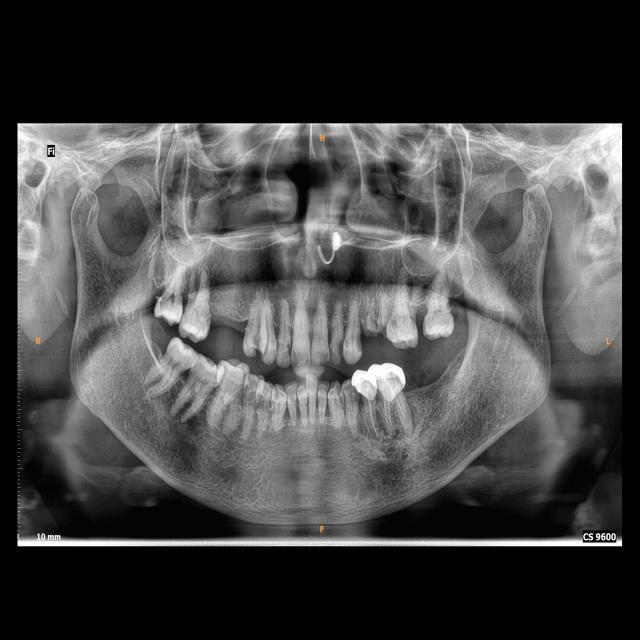kanal-tedavisi: (380, 391, 411, 427), (365, 396, 378, 439)
kaplama: (373, 363, 407, 397), (352, 368, 379, 398)
kirik: (358, 318, 390, 345)
